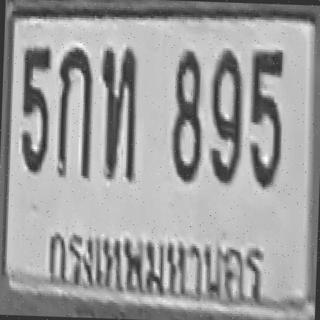A01: (55, 47, 94, 178)
A23: (98, 45, 139, 181)
N05: (246, 49, 284, 187), (19, 44, 51, 173)
N08: (168, 49, 204, 182)
N09: (207, 49, 243, 184)
P04: (33, 223, 274, 314)
